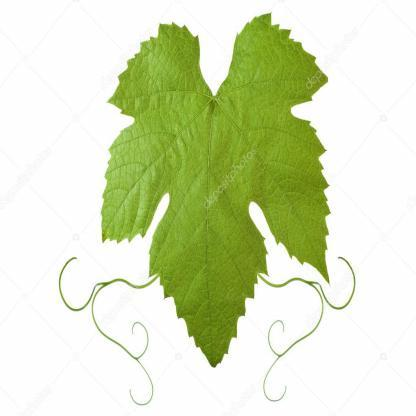grape leaf black rot: (93, 7, 337, 368)
